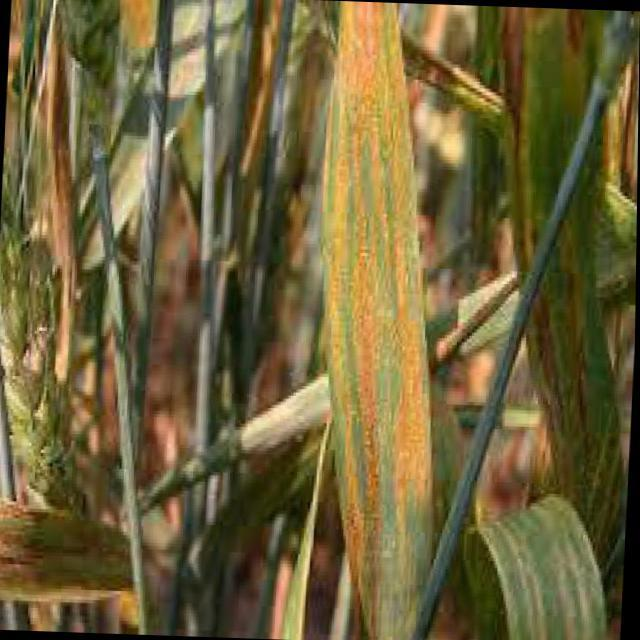Yellow Rust: (297, 0, 637, 639)
